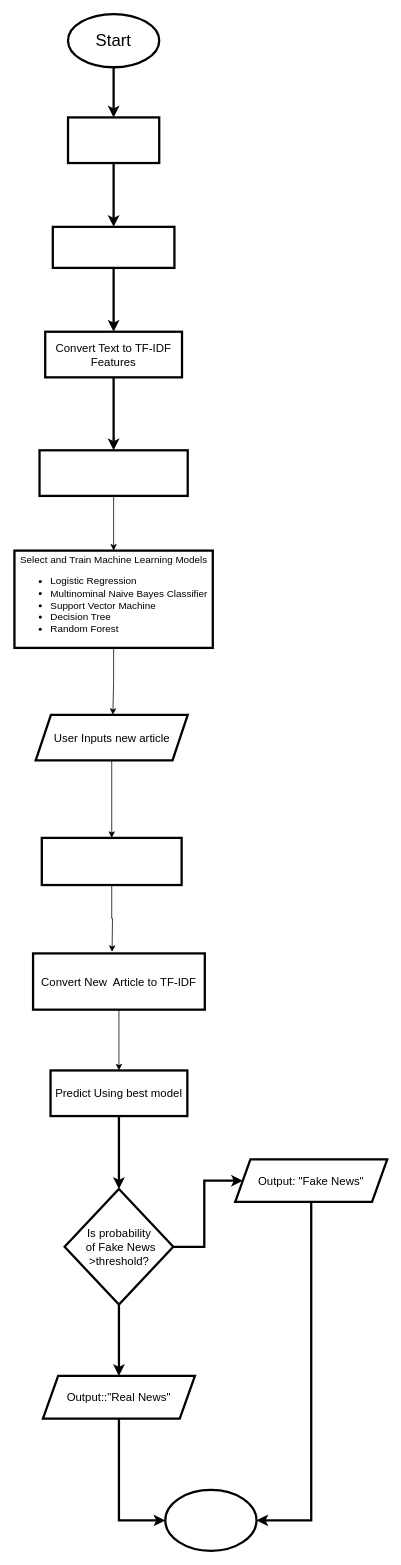
This 401x1565 diagram has some shape labels left out. The centre of each missing label's shape, as x and y in pixels:
"End" belongs at (x=210, y=1520).
"Load dataset (Fake and Real)" belongs at (x=113, y=140).
"Pre-process the text" belongs at (x=113, y=247).
"Process New Article" belongs at (x=111, y=861).
"Train and Test split the Datasets" belongs at (x=113, y=473).
